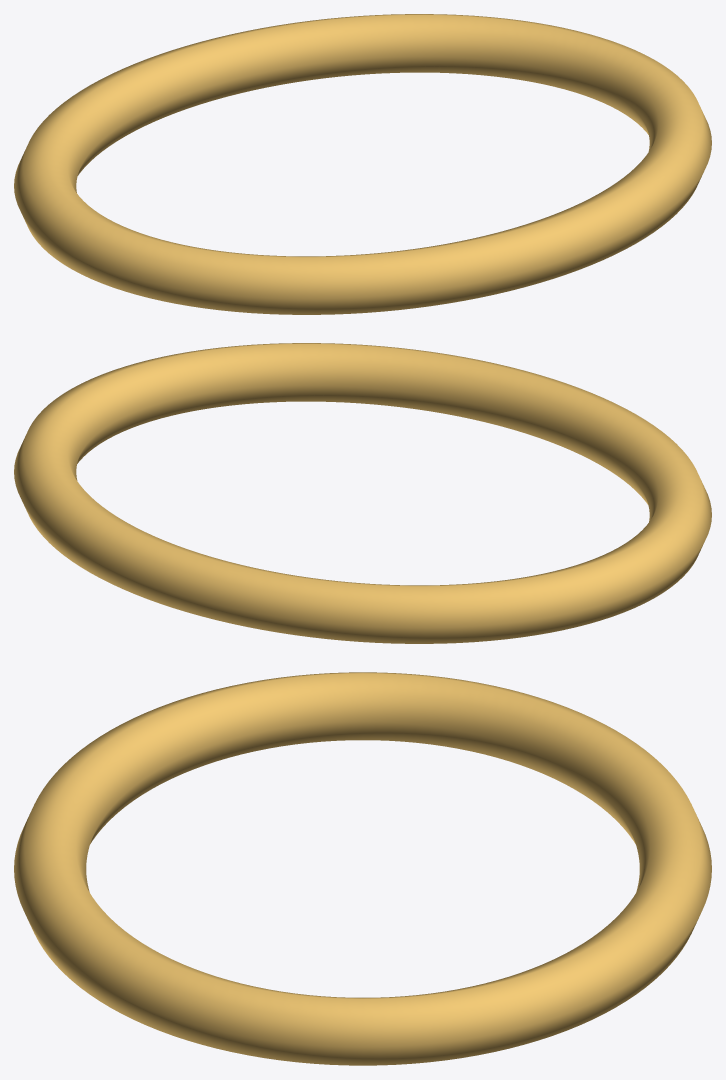
File: gold-oval-bracelet.glb
3 views of the same model, one above another, from view 1: azimuth 30°, elevation 25°; view 2: azimuth 150°, elevation 25°; view 3: azimuth 270°, elevation 25° (orthographic). The views are drawn at different scales.
Parts seen in each view (by area): view 1: Gold oval bangle; view 2: Gold oval bangle; view 3: Gold oval bangle.
Boxes of the visible parts, x1=… form: Gold oval bangle: x1=14, y1=14, x2=711, y2=314; Gold oval bangle: x1=14, y1=343, x2=711, y2=643; Gold oval bangle: x1=14, y1=672, x2=711, y2=1065.
Bounding box in the file's own units: 0.07 × 0.006 × 0.058.
